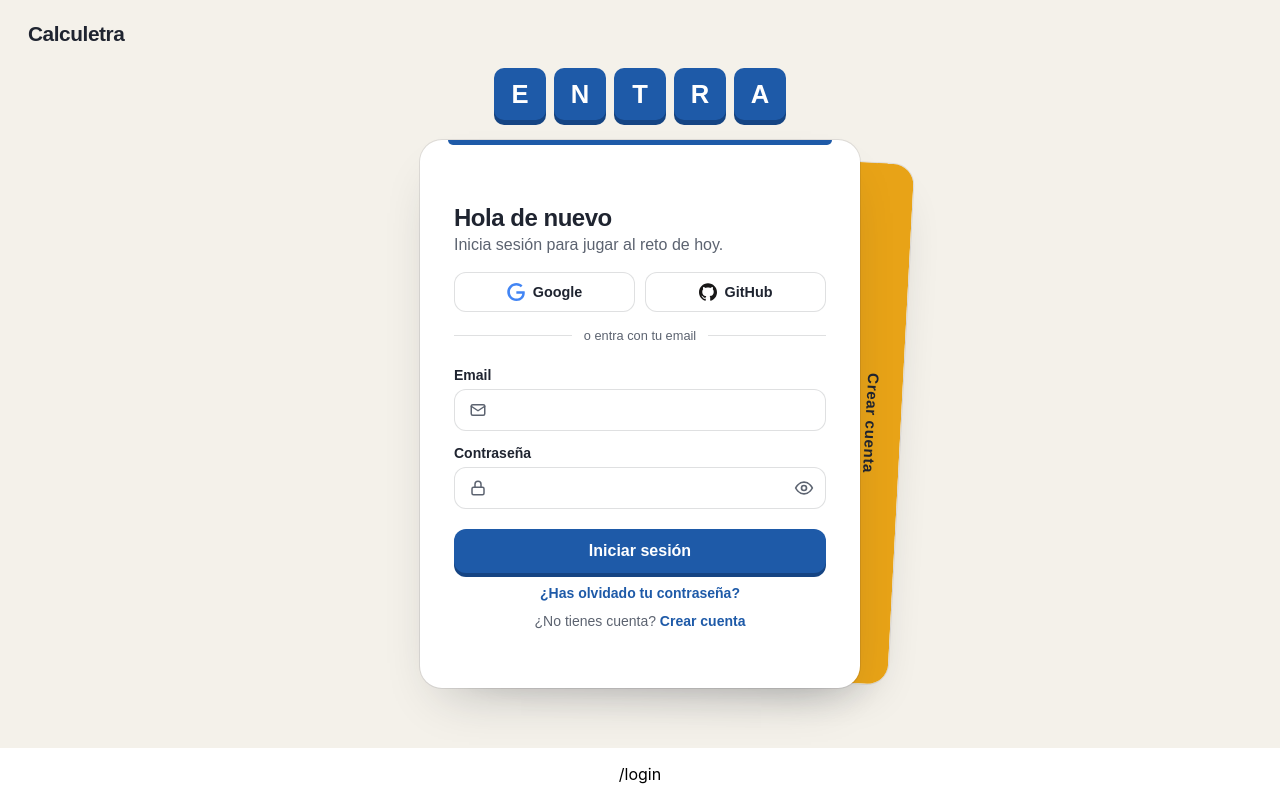
Test: AuthPage › switches to sign up from the spine and updates the URL
Step 1. Click the button with aria-label "Ir a crear cuenta" → (870, 423), box [826,162,914,685]
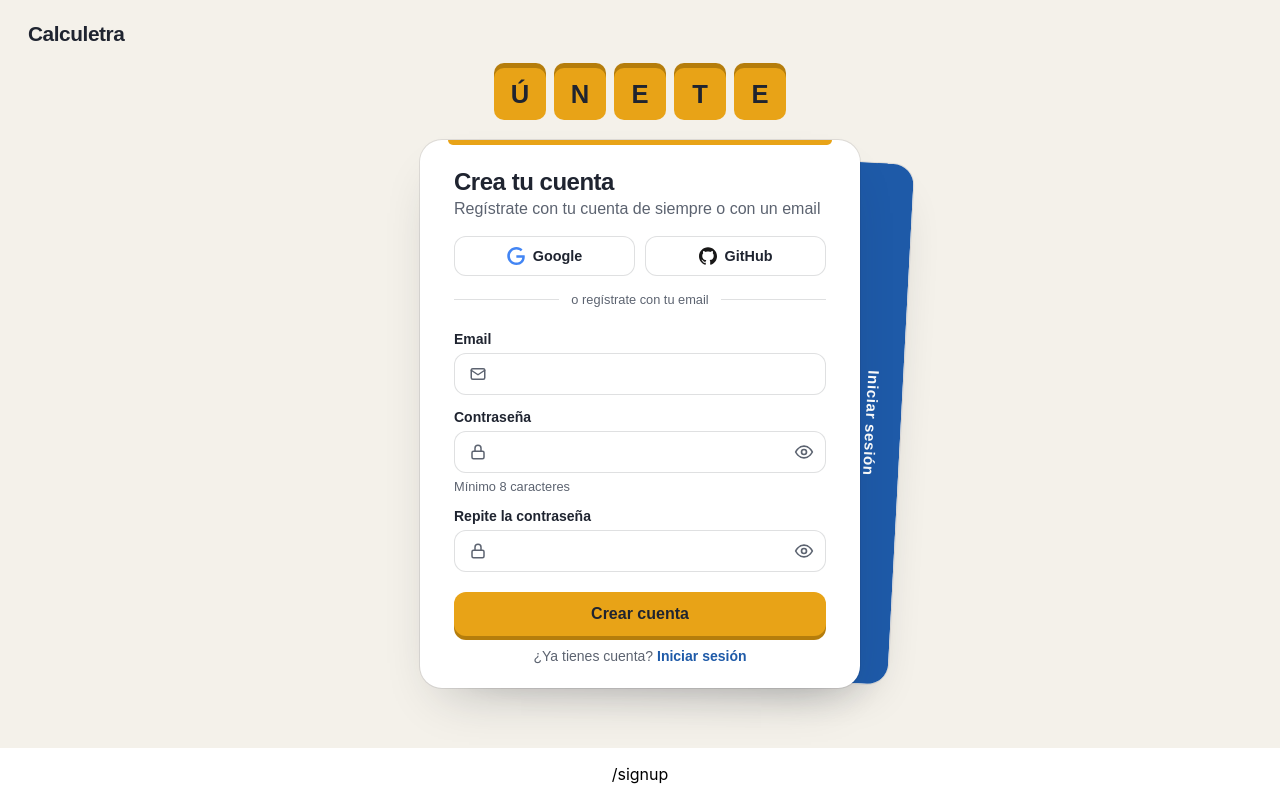
Result: the text with test id "path" reads "/signup" at [612,764,668,784]
